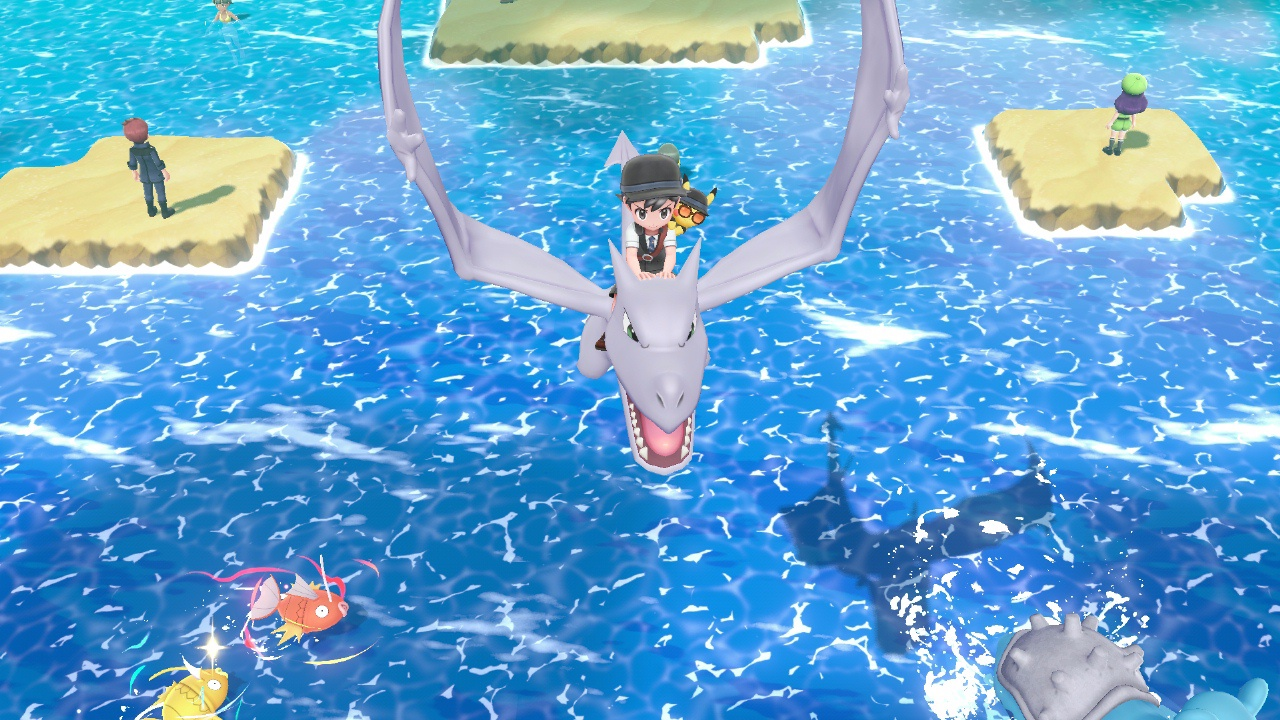Golden: (136, 657, 231, 720)
